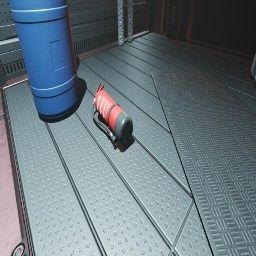FireExtinguisher ]: (91, 82, 133, 146)
